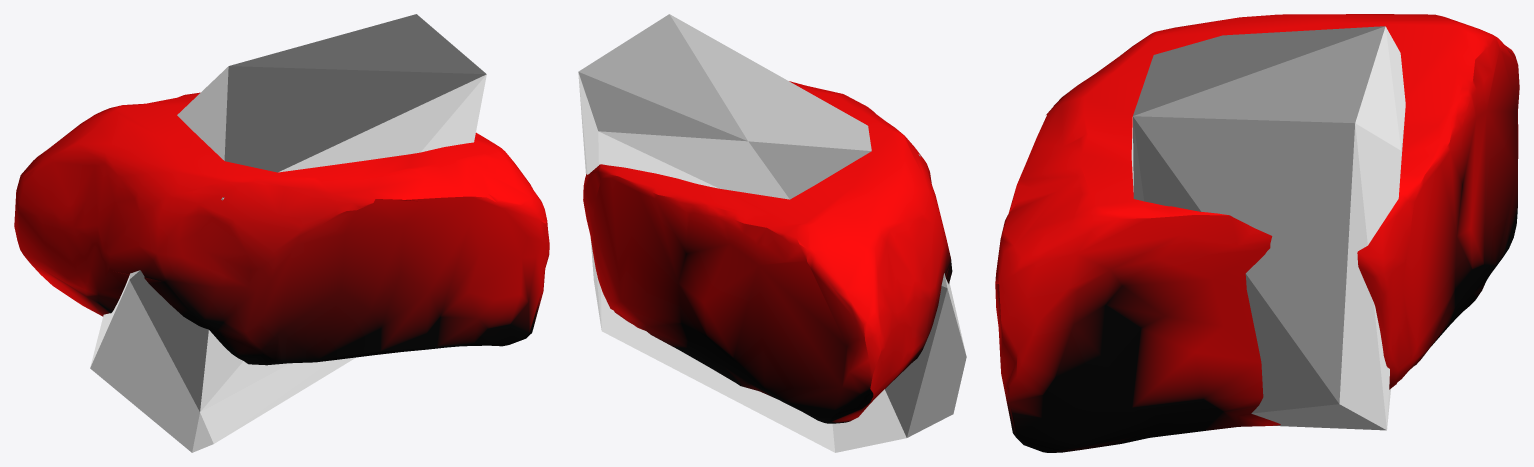
The picture shows the model from 3 angles, left to right: view 1: azimuth 30°, elevation 25°; view 2: azimuth 150°, elevation 25°; view 3: azimuth 270°, elevation 25°; orthographic projection. The views are drawn at different scales.
Visible parts, largest first — view 1: SM_Rock_08_LOD0, SM_Rock_08_ConvexHulls; view 2: SM_Rock_08_LOD0, SM_Rock_08_ConvexHulls; view 3: SM_Rock_08_LOD0, SM_Rock_08_ConvexHulls.
Boxes of the visible parts, box(x1,y1,x2,y2) form: SM_Rock_08_LOD0: box(14, 92, 549, 365); SM_Rock_08_ConvexHulls: box(90, 14, 486, 452); SM_Rock_08_LOD0: box(583, 81, 952, 423); SM_Rock_08_ConvexHulls: box(578, 14, 966, 452); SM_Rock_08_LOD0: box(995, 14, 1519, 452); SM_Rock_08_ConvexHulls: box(1131, 26, 1405, 430).
Size of the model in its own units: 144 by 130 by 121.
